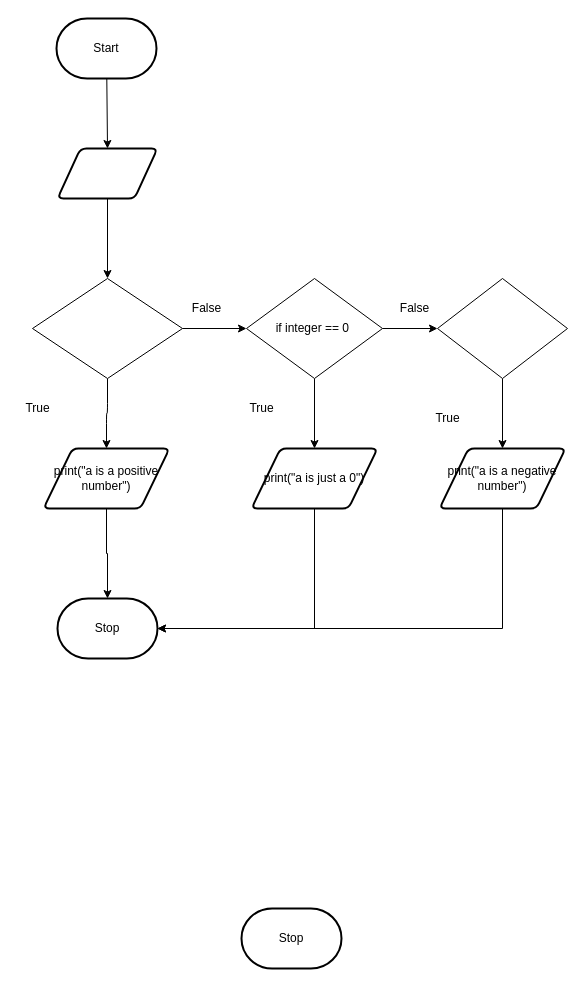
Image size: 585x986. Some labels were removed from this diagram. Here are the shapes that lost their labels. From the top down, the centre of each, then its label:
At [107,173]: "Get integer".
At [107,328]: "if integer >= 0".
At [502,328]: "if integer <= 0".
